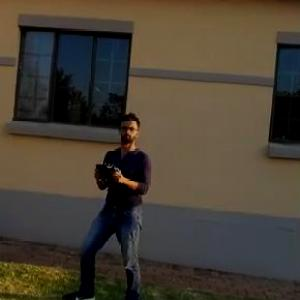follow: (57, 109, 154, 299)
